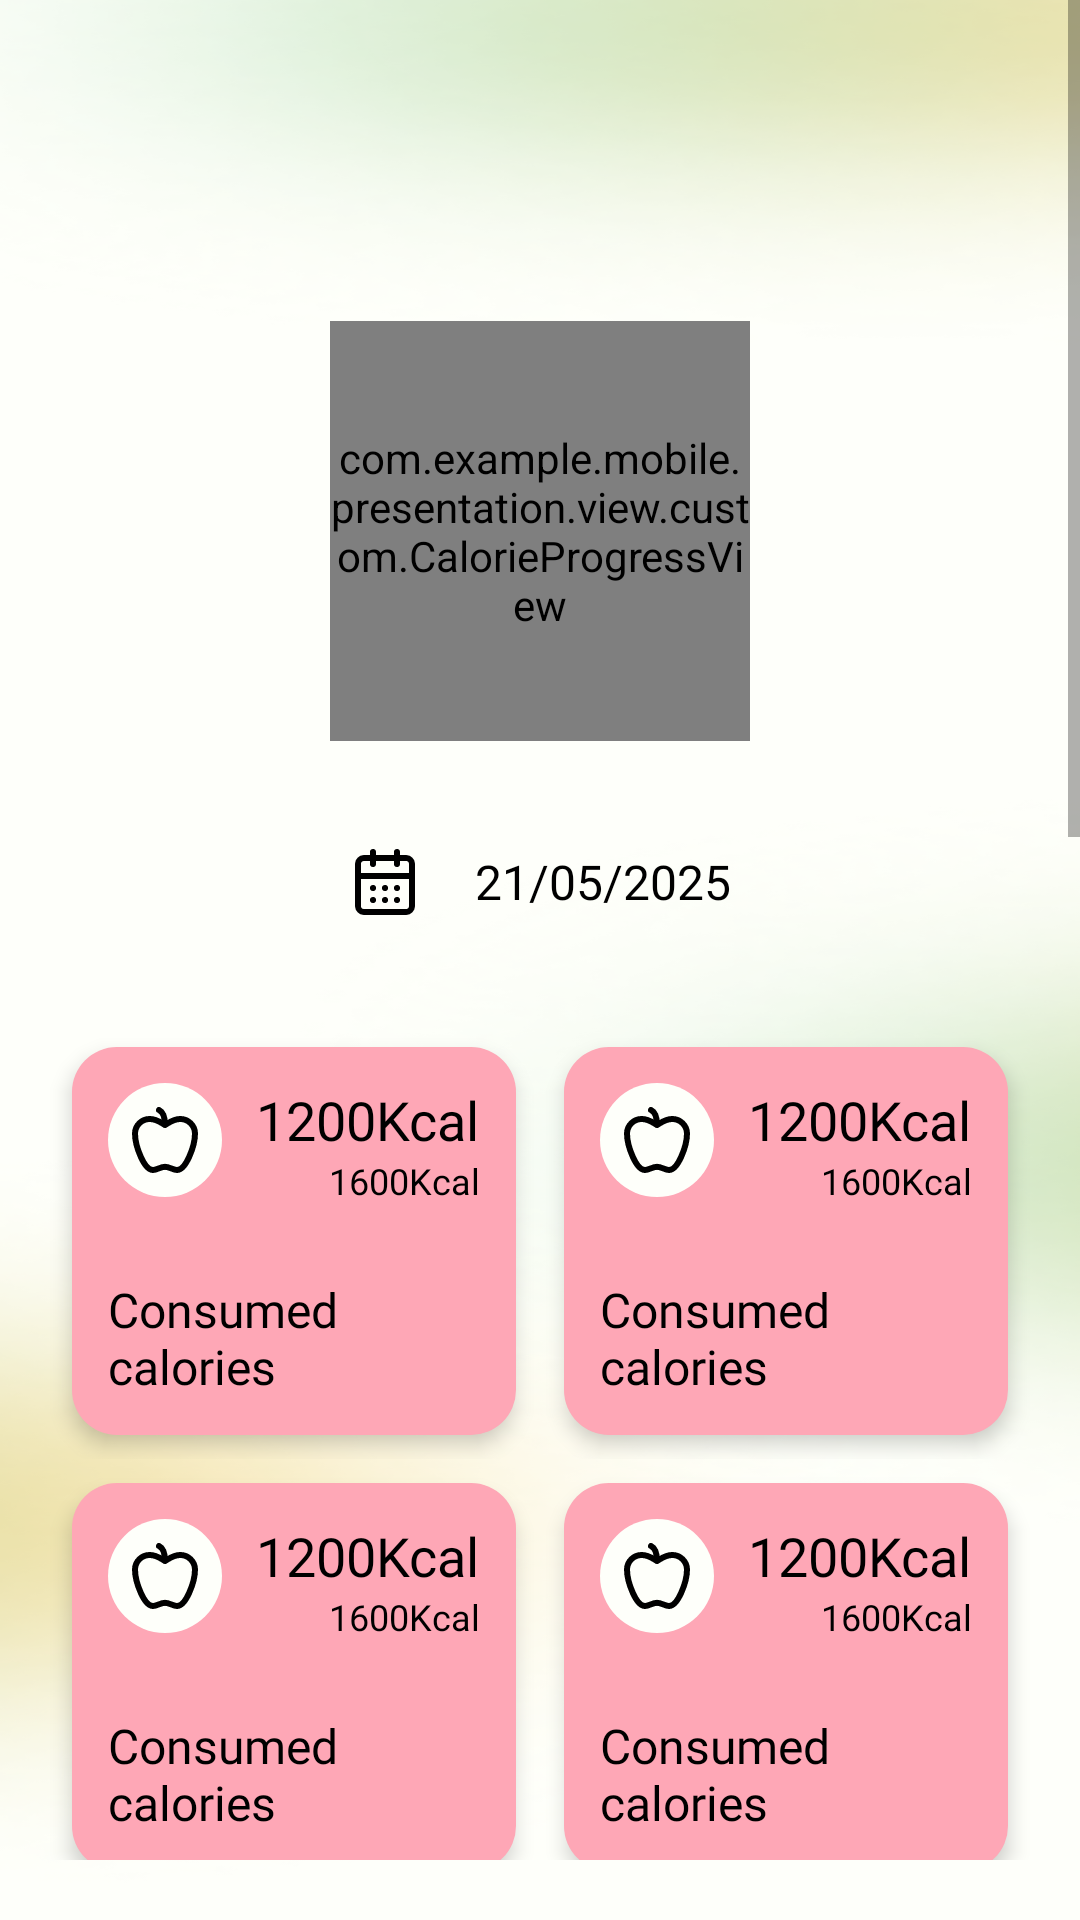

Where icons sit on this 1080*1920 app screen, as (x1, y1, x2, y2):
apple: (108, 1083, 222, 1197), (600, 1083, 714, 1197), (108, 1519, 222, 1633), (600, 1519, 714, 1633)
calendar: (355, 849, 415, 915)
